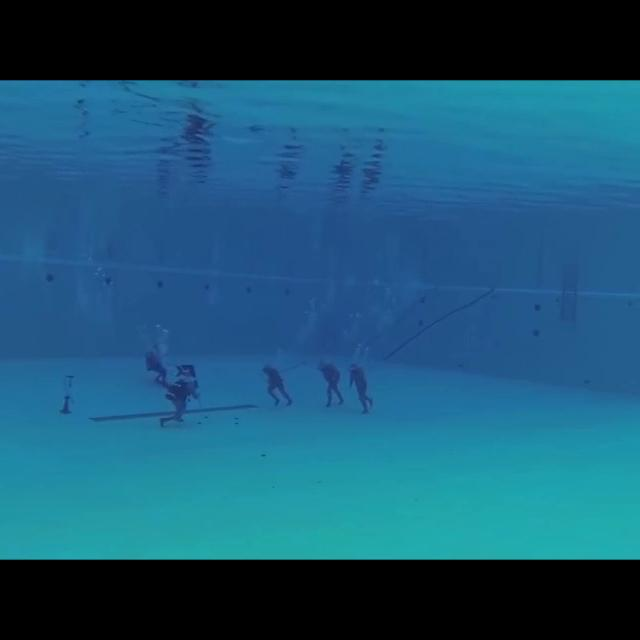human: (153, 372, 206, 435), (343, 354, 383, 418), (256, 355, 301, 411), (141, 332, 172, 390), (316, 357, 349, 407)
